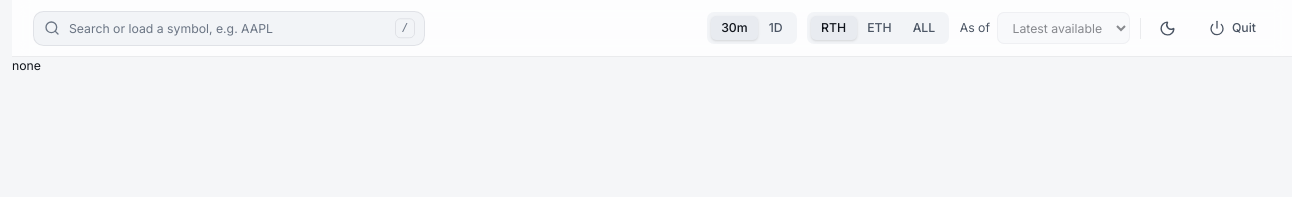
typing a symbol in the top bar › shows the backend's message and selects nothing when the load fails
The image size is (1292, 197).
Type "zzzz" into the dropdown named "Search instruments" at {"x": 229, "y": 28}, box top-left (33, 10), bottom-right (425, 46)
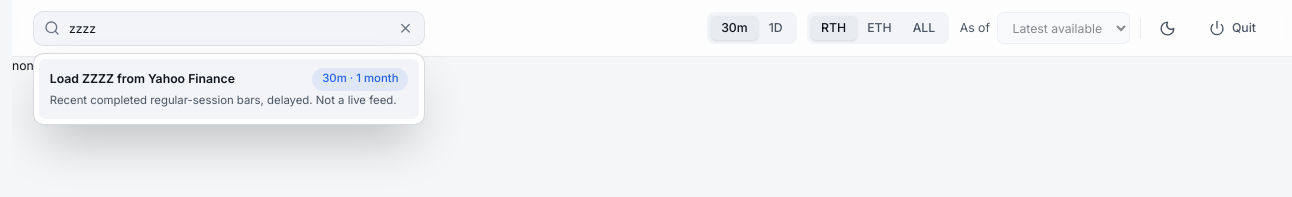
Press the mouse on the option "Load ZZZZ" at {"x": 142, "y": 78}, box top-left (39, 59), bottom-right (419, 119)
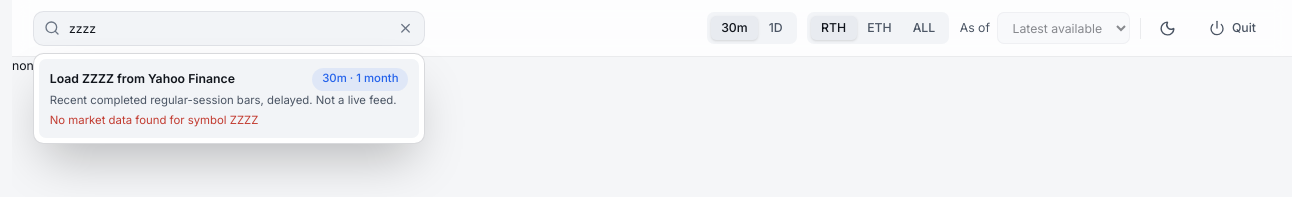
Check: the text with test id "selected" reads "none", box top-left (12, 58), bottom-right (41, 73)
Check: the message reads "No market data found for symbol ZZZZ", box top-left (50, 112), bottom-right (258, 126)
